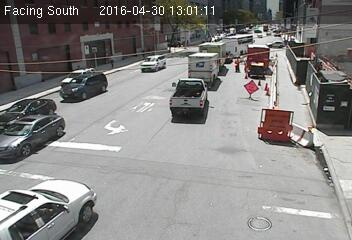neg: (84, 115, 113, 154), (179, 100, 189, 115)
pos: (230, 54, 244, 73), (105, 55, 115, 68)
